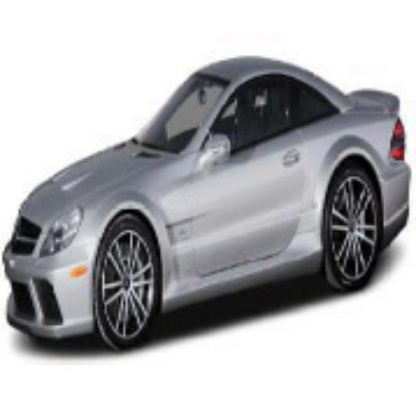Vehicle: (1, 44, 415, 368)
